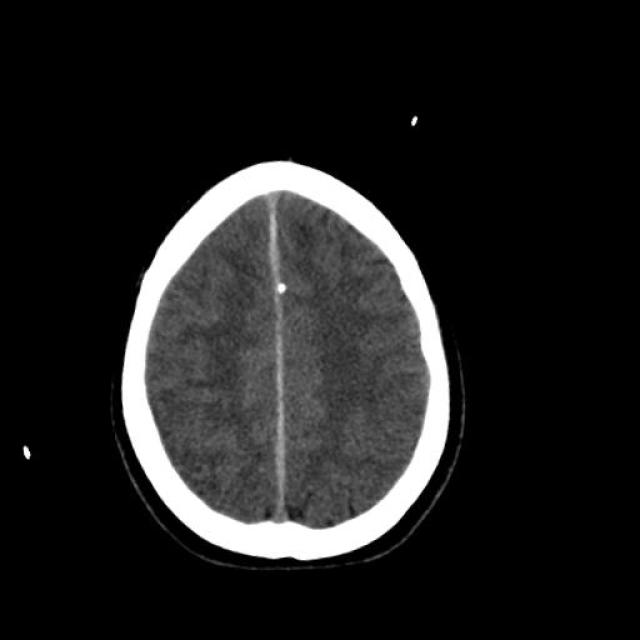Subdural: (202, 350, 338, 550)
